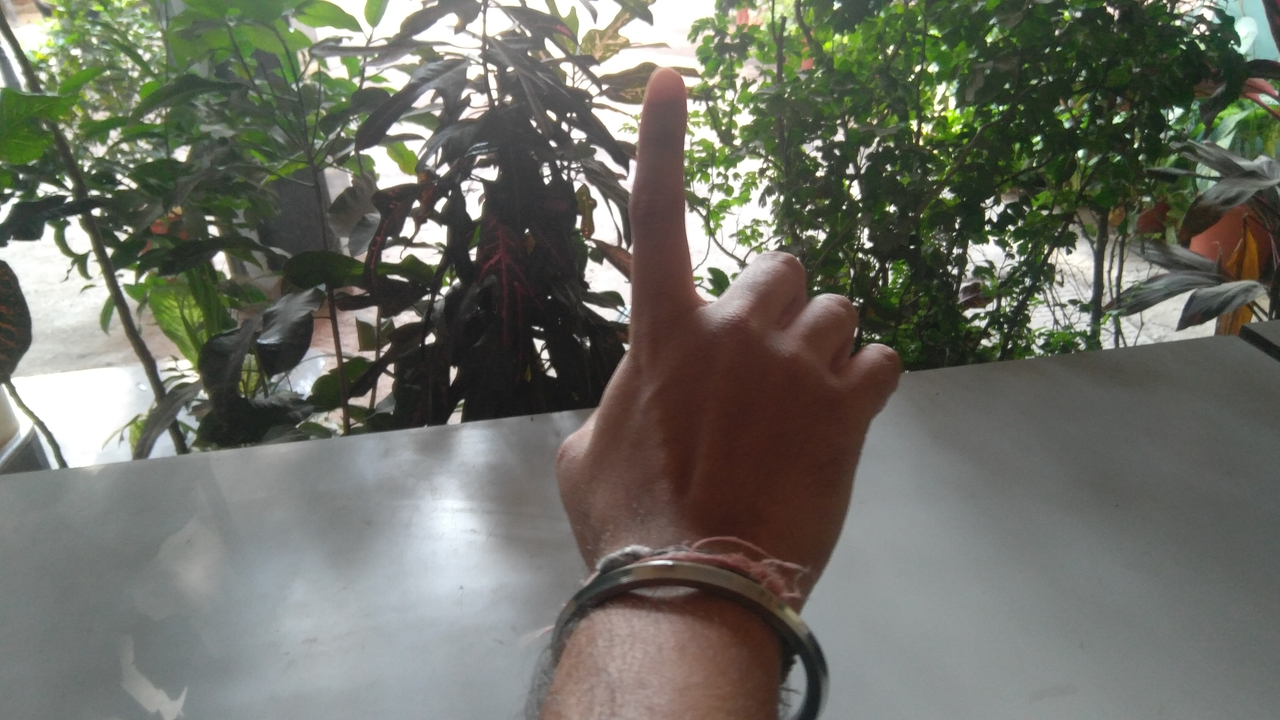fingertip: (642, 58, 690, 108)
